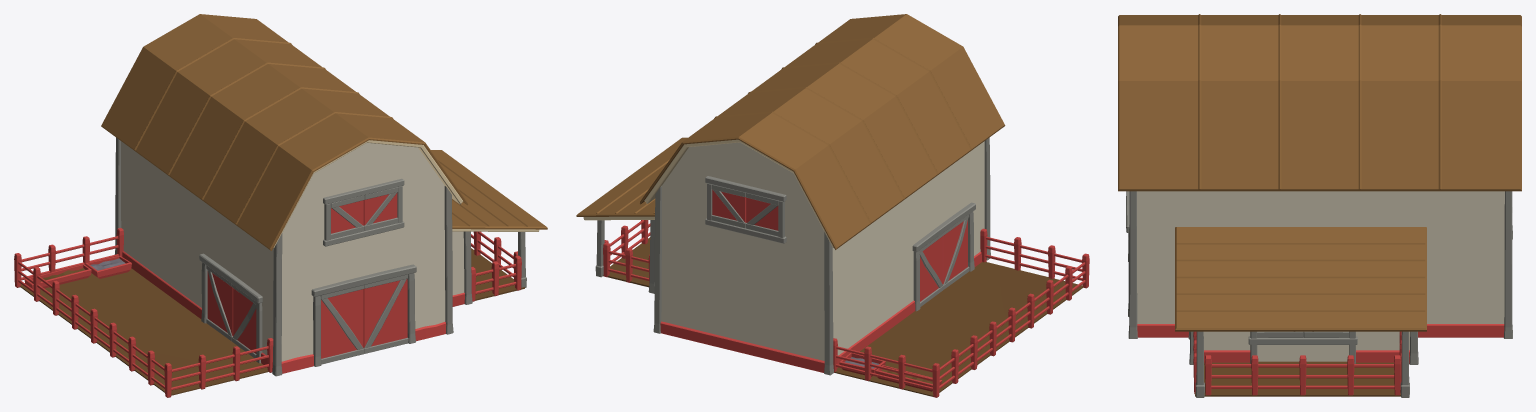
File: farmbuilding_b.gltf
3 views of the same model, side by side, from view 1: azimuth 30°, elevation 25°; view 2: azimuth 150°, elevation 25°; view 3: azimuth 270°, elevation 25° (orthographic). The views are drawn at different scales.
Visible parts, largest first — view 1: Line010, Box289, Box323, Plane001, farmbuilding_b001, Box339, Box336, Box313, Line007; view 2: Line010, Box289, Plane001, Box323, Box339, farmbuilding_b001, Box336, Line007, Box313; view 3: Line010, Box289, Box323, Plane001, Box339, Box336.
Part boxes in pixels (x1=…): Line010: x1=101, y1=14, x2=547, y2=250; Box289: x1=121, y1=141, x2=464, y2=361; Box323: x1=114, y1=137, x2=526, y2=376; Plane001: x1=20, y1=248, x2=524, y2=395; farmbuilding_b001: x1=40, y1=193, x2=407, y2=358; Box339: x1=14, y1=228, x2=521, y2=397; Box336: x1=122, y1=251, x2=464, y2=373; Box313: x1=24, y1=255, x2=131, y2=289; Line007: x1=273, y1=140, x2=539, y2=248; Line010: x1=576, y1=14, x2=1005, y2=249; Box289: x1=661, y1=141, x2=984, y2=360; Plane001: x1=603, y1=237, x2=1083, y2=396; Box323: x1=595, y1=137, x2=990, y2=375; Box339: x1=603, y1=220, x2=1089, y2=397; farmbuilding_b001: x1=712, y1=189, x2=967, y2=384; Box336: x1=660, y1=252, x2=982, y2=372; Line007: x1=583, y1=139, x2=833, y2=247; Box313: x1=839, y1=352, x2=942, y2=391; Line010: x1=1118, y1=14, x2=1521, y2=331; Box289: x1=1137, y1=191, x2=1504, y2=361; Box323: x1=1126, y1=191, x2=1512, y2=397; Plane001: x1=1195, y1=361, x2=1400, y2=396; Box339: x1=1193, y1=331, x2=1401, y2=395; Box336: x1=1137, y1=324, x2=1504, y2=363.
Size of the model in its own units: 11.57 by 6.19 by 8.61.
1 material, 1 textured.
